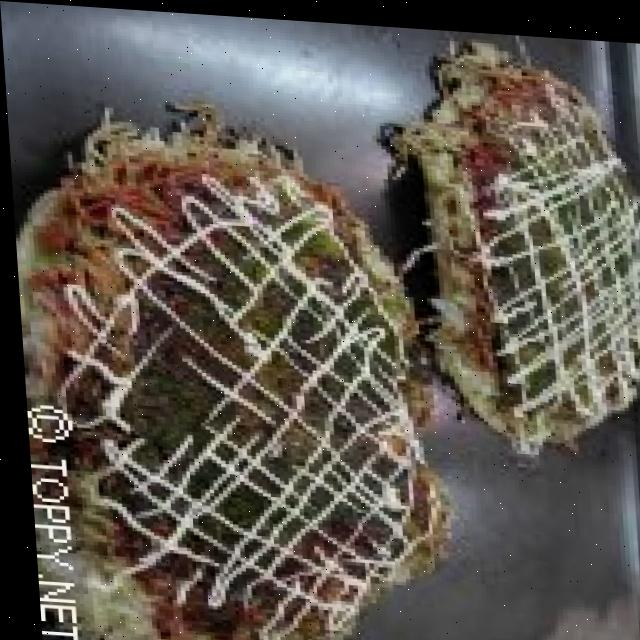蛋糕甜品: (59, 29, 640, 640)
